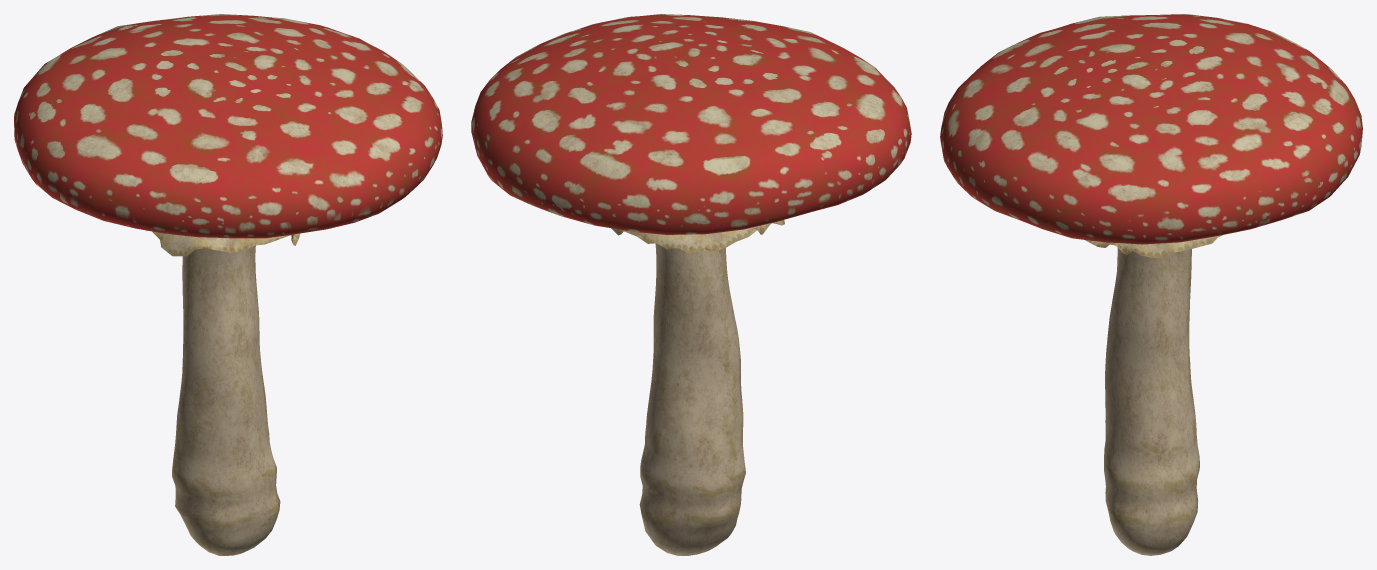
File: poision.glb
3 views of the same model, side by side, from view 1: azimuth 30°, elevation 25°; view 2: azimuth 150°, elevation 25°; view 3: azimuth 270°, elevation 25° (orthographic). The views are drawn at different scales.
Visible parts, largest first — view 1: hood_low, stem_low, annulus_low; view 2: hood_low, stem_low, annulus_low; view 3: hood_low, stem_low, annulus_low.
Part boxes in pixels (<box>): hood_low: <box>14,14,442,238</box>; stem_low: <box>172,245,280,555</box>; annulus_low: <box>146,230,300,256</box>; hood_low: <box>471,14,911,234</box>; stem_low: <box>639,243,745,555</box>; annulus_low: <box>611,220,784,253</box>; hood_low: <box>940,14,1362,244</box>; stem_low: <box>1104,248,1199,555</box>; annulus_low: <box>1085,235,1222,257</box>.
Bounding box in the file's own units: 103 × 127 × 101.
Materials: 1 (1 with a texture image).
